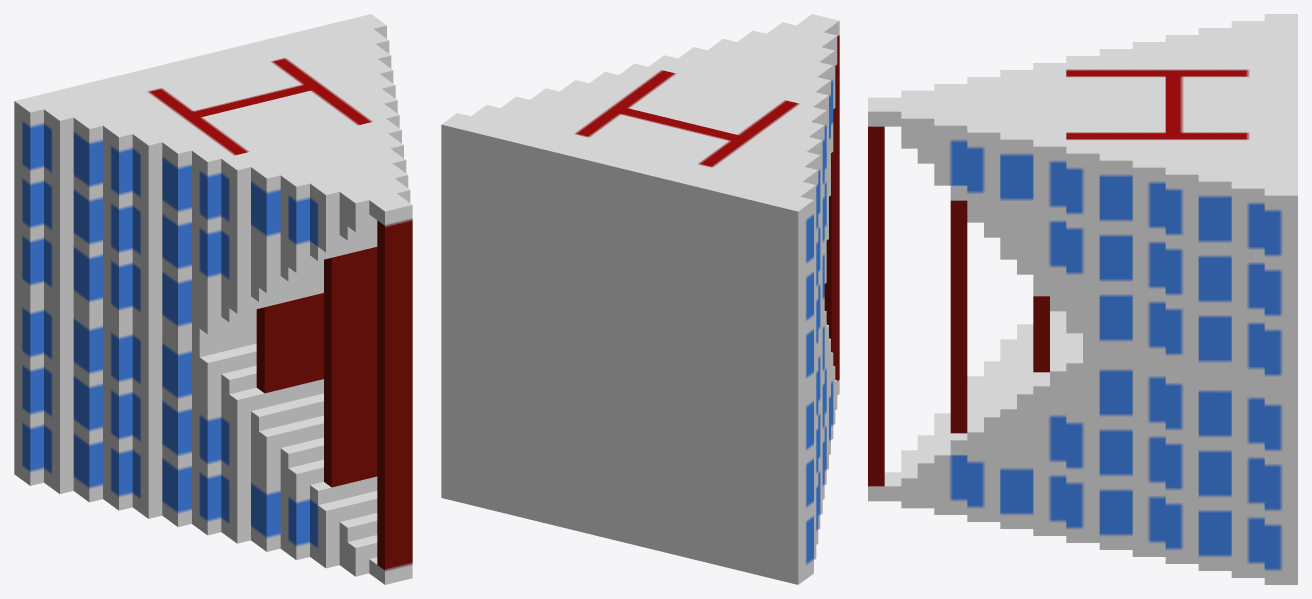
Rendered from fifteenthModel.fbx.
The picture shows the model from 3 angles, left to right: view 1: azimuth 30°, elevation 25°; view 2: azimuth 150°, elevation 25°; view 3: azimuth 270°, elevation 25°; orthographic projection. The views are drawn at different scales.
Visible parts, largest first — view 1: Triangle; view 2: Triangle; view 3: Triangle.
Boxes of the visible parts, x1,y1,x2,y2 form: Triangle: (14,14,412,584); Triangle: (441,14,839,584); Triangle: (868,14,1297,584).
Bounding box in the file's own units: 26 × 26 × 26.
1 material, 1 textured.
